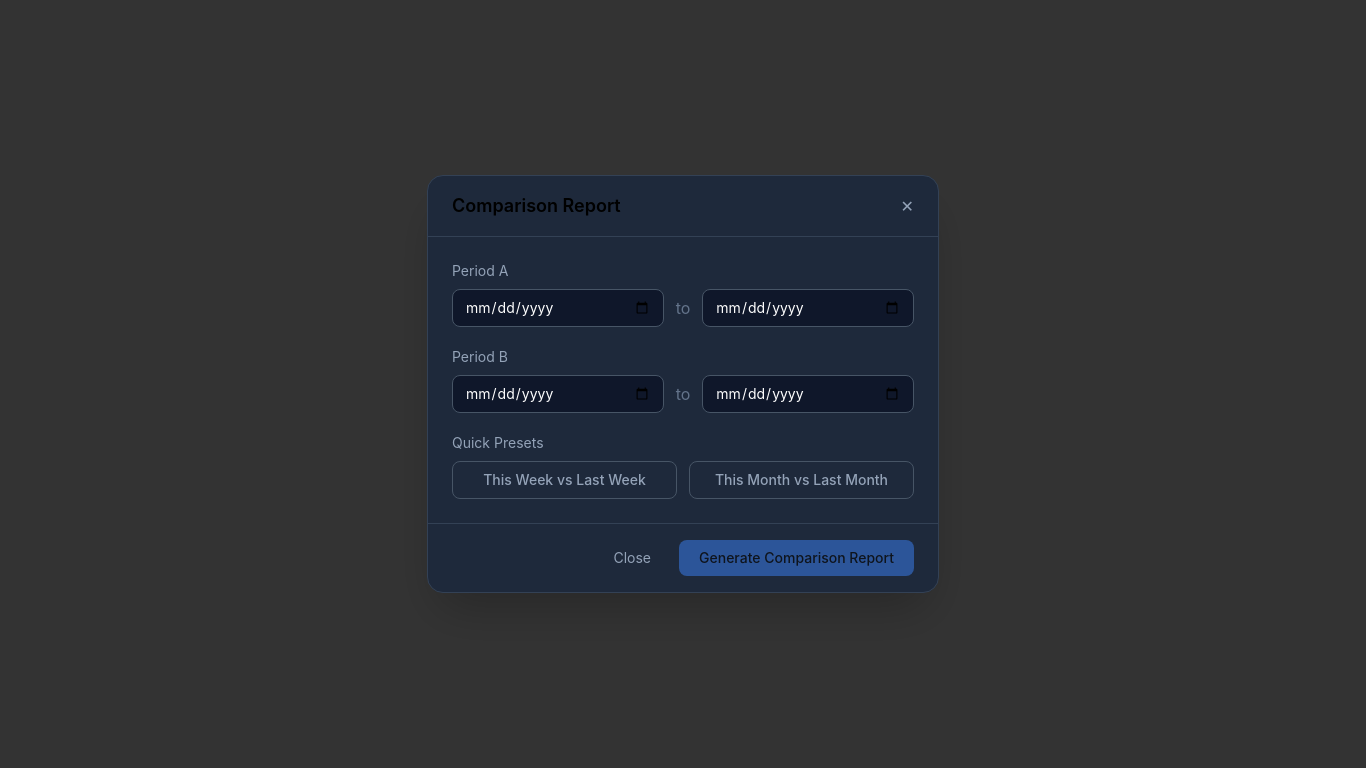
Test: ReportComparisonModal › Generate Comparison › shows success message on successful generation
Type "2026-03-01" into the 1st date field at point(558, 308), box x1=452 y1=289 x2=664 y2=327
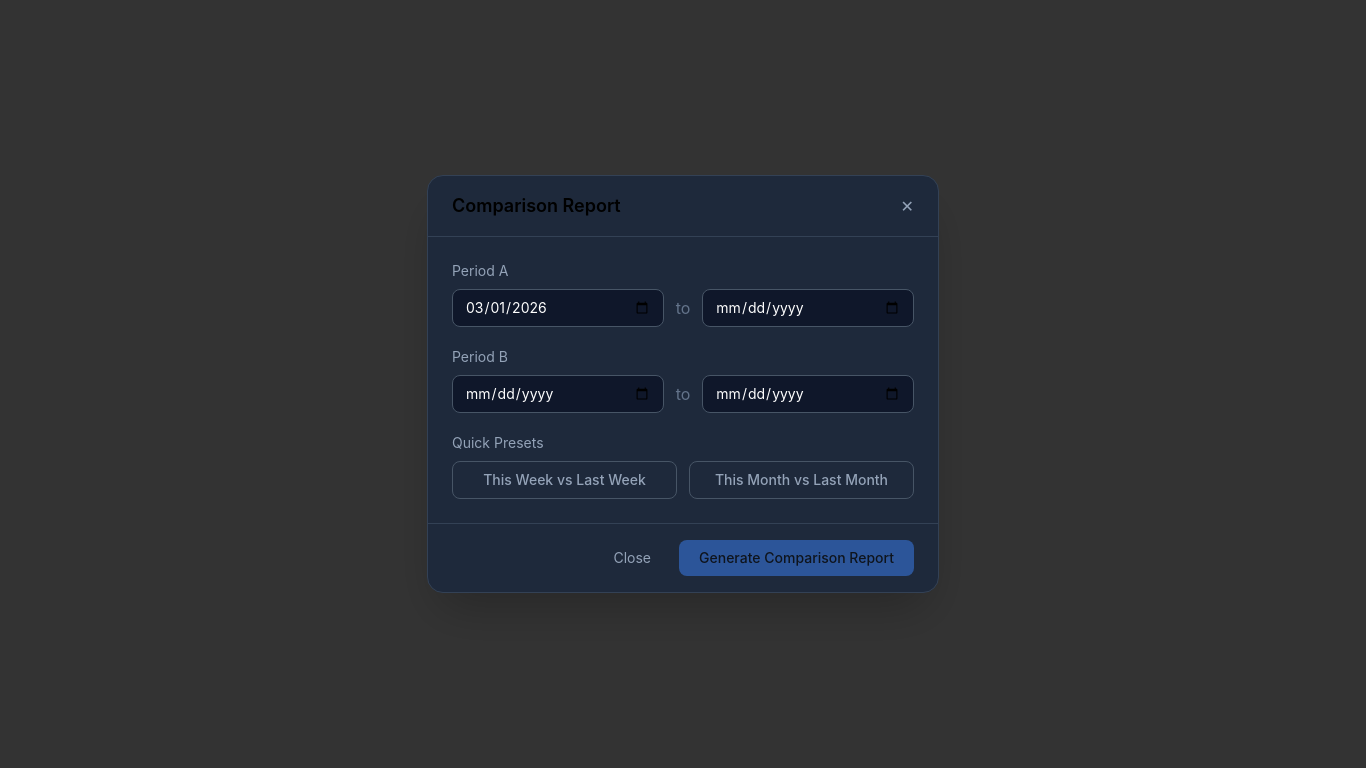
Type "2026-03-07" into the 2nd date field at point(808, 308), box x1=702 y1=289 x2=914 y2=327
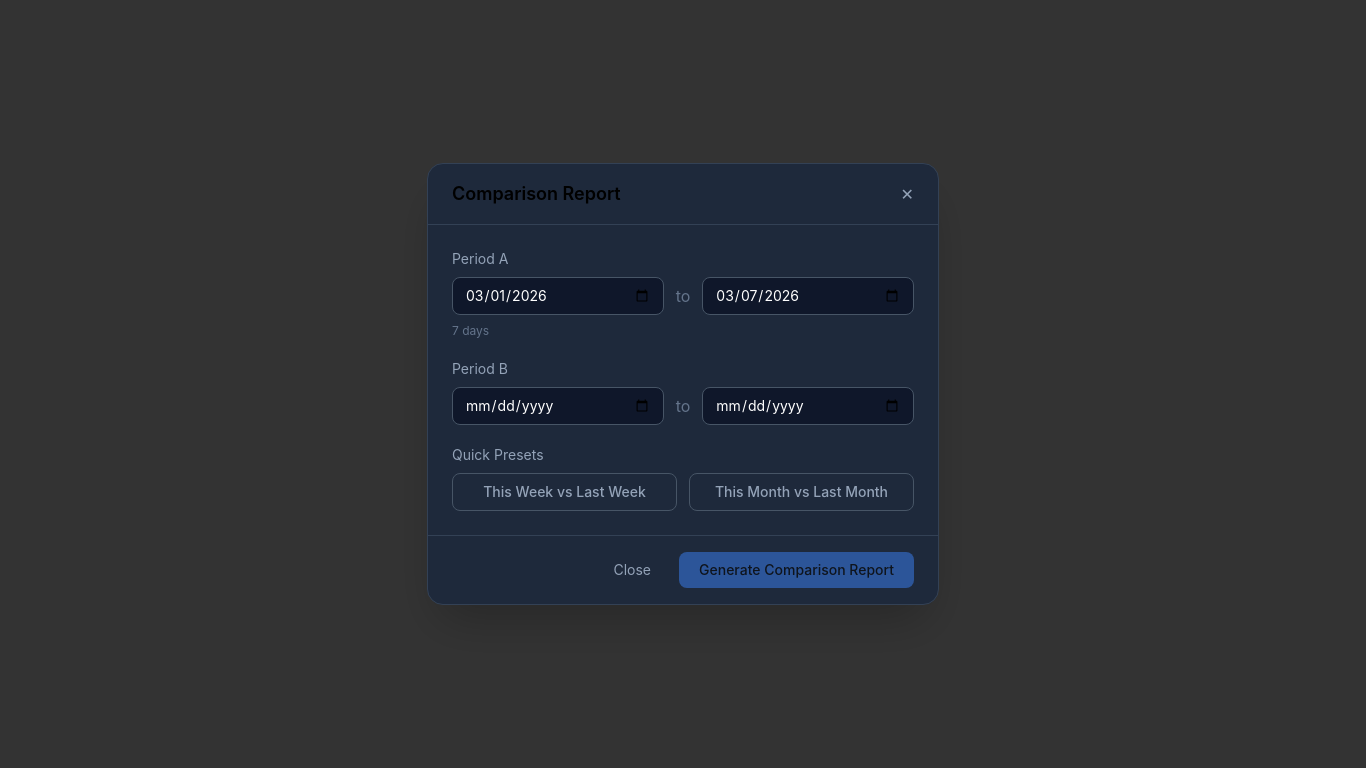
Type "2026-03-08" into the 3rd date field at point(558, 406), box x1=452 y1=387 x2=664 y2=425
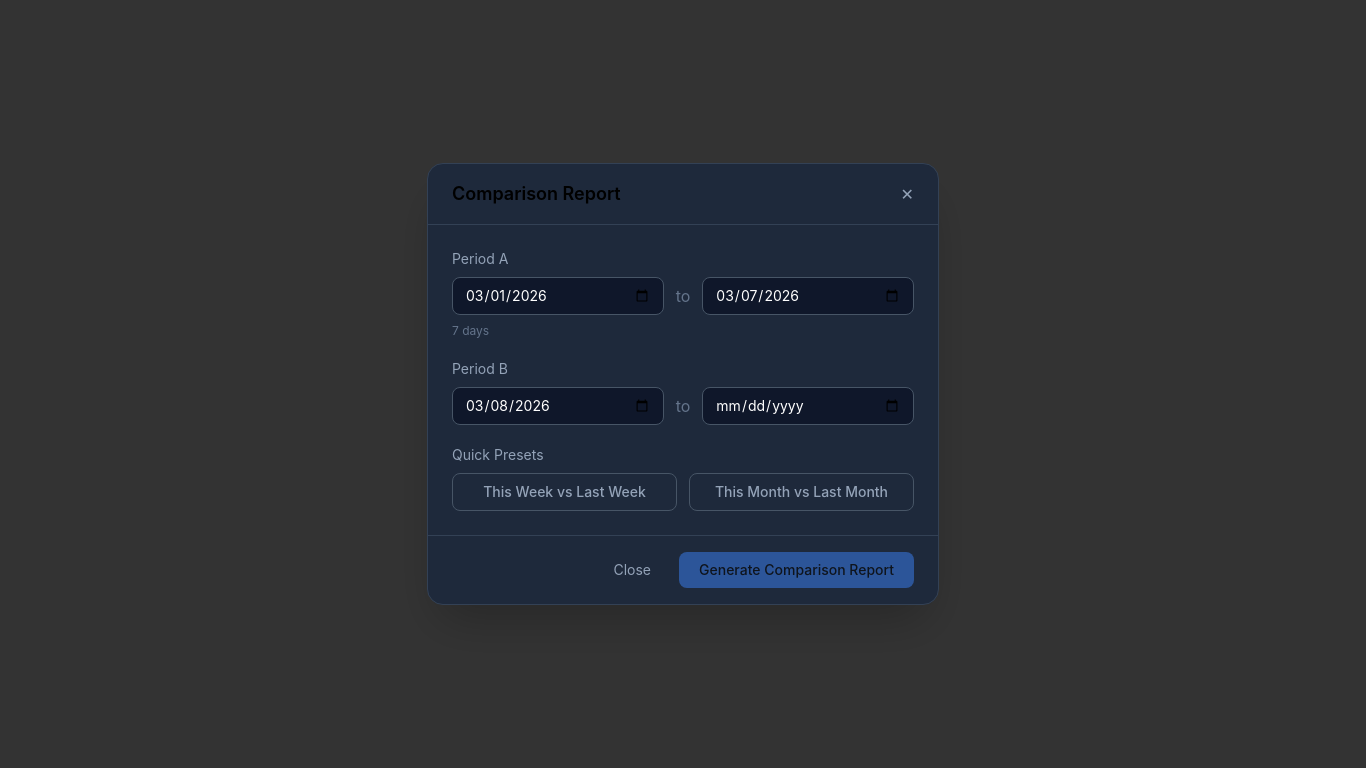
Type "2026-03-14" into the 4th date field at point(808, 406), box x1=702 y1=387 x2=914 y2=425
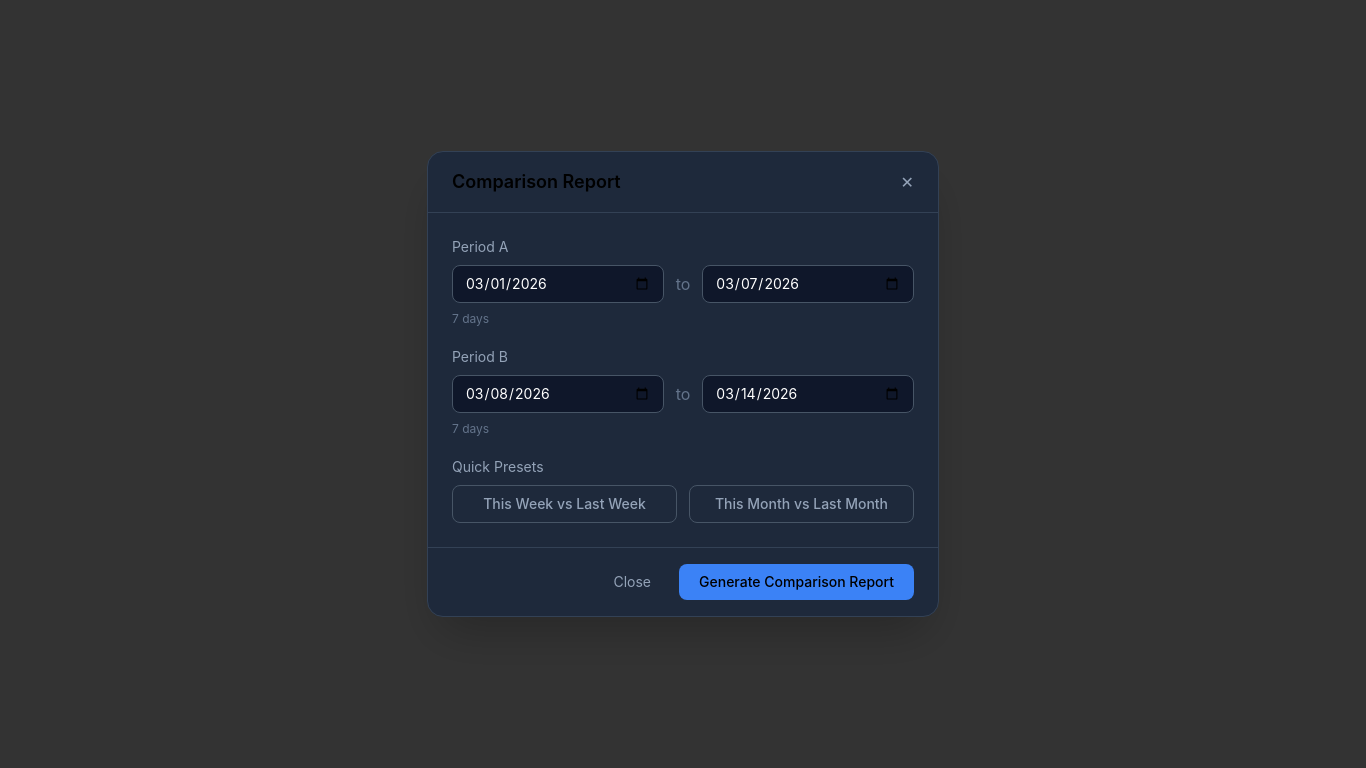
Click the button "Generate Comparison Report" at point(796, 582), box x1=679 y1=564 x2=914 y2=600
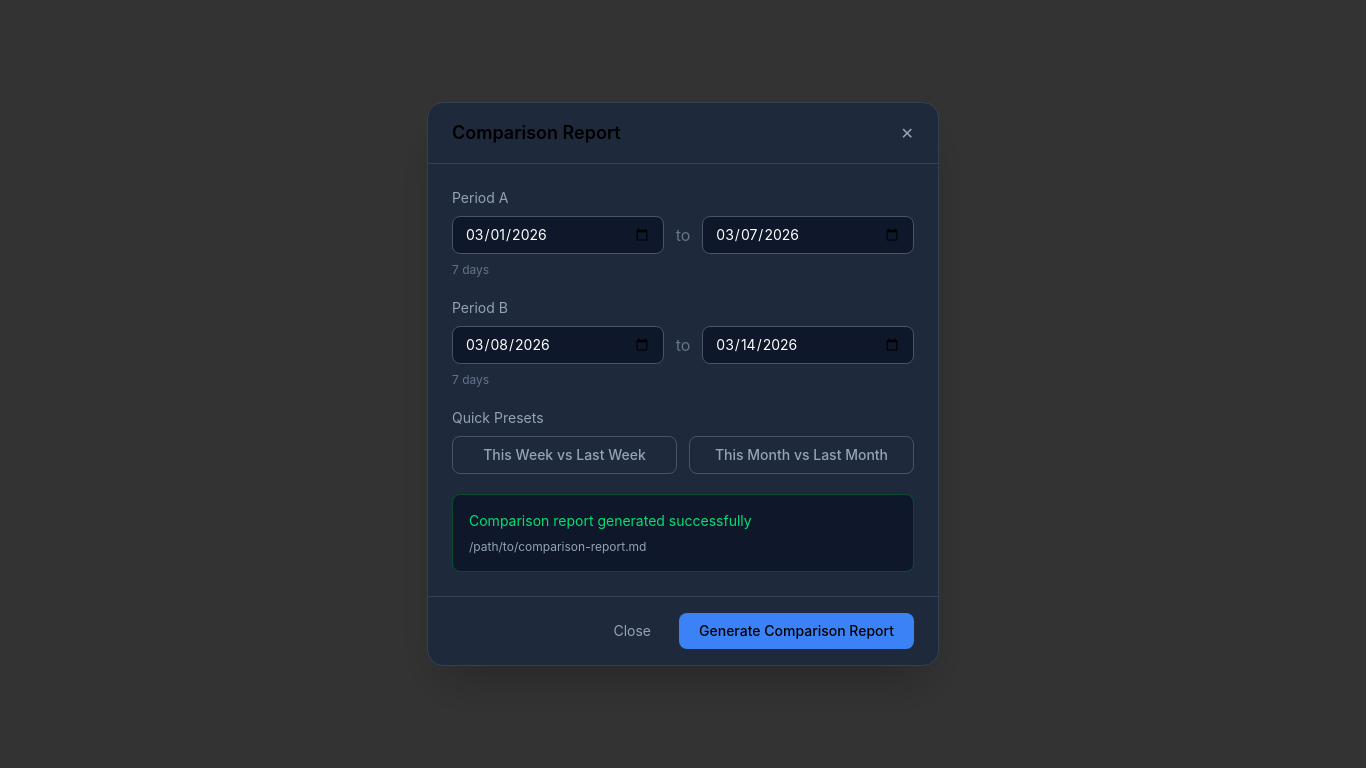
Check: the text "/path/to/comparison-report.md" is shown, box x1=469 y1=539 x2=646 y2=554
